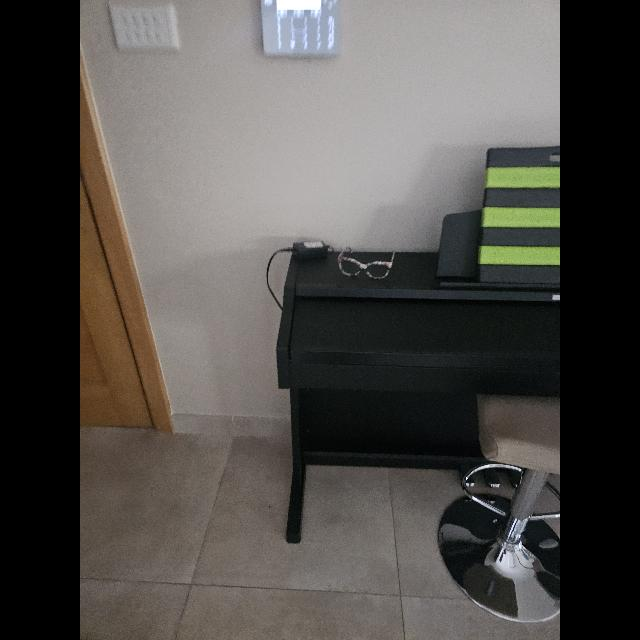glasses: (338, 247, 394, 280)
